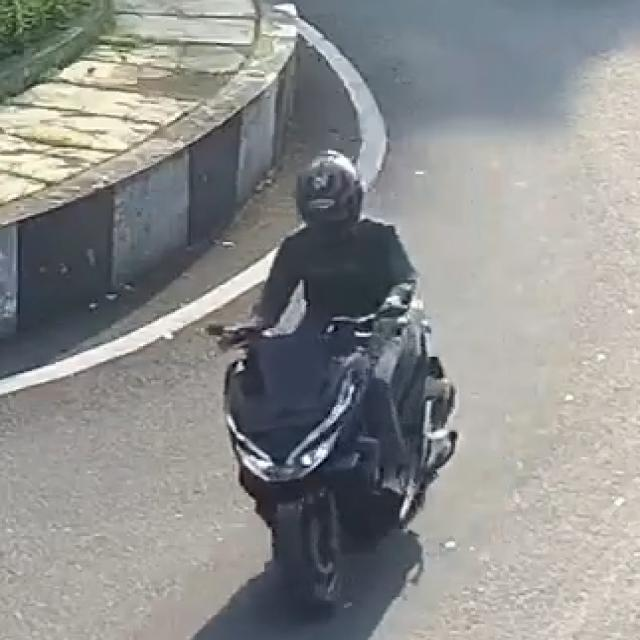helm: (285, 146, 365, 239)
motor: (202, 141, 472, 627)
spion: (344, 289, 421, 328), (197, 316, 257, 353)
